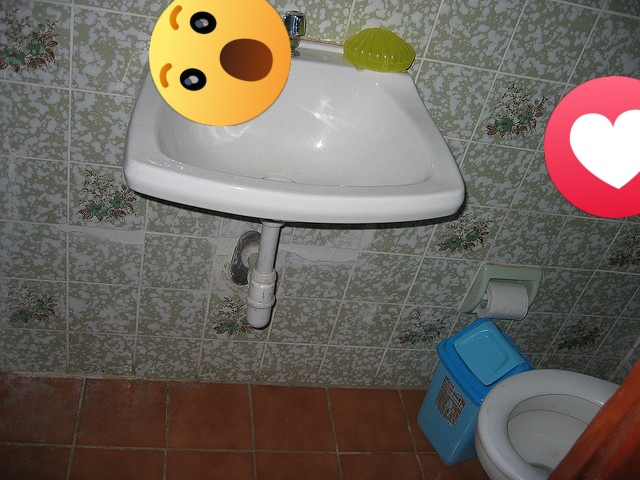love: (544, 76, 640, 218)
wow: (149, 0, 291, 126)
